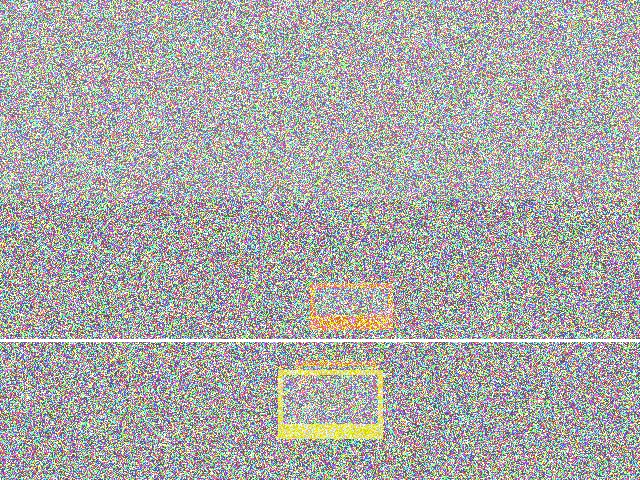bus: (172, 340, 243, 402)
truck: (130, 395, 286, 456)
